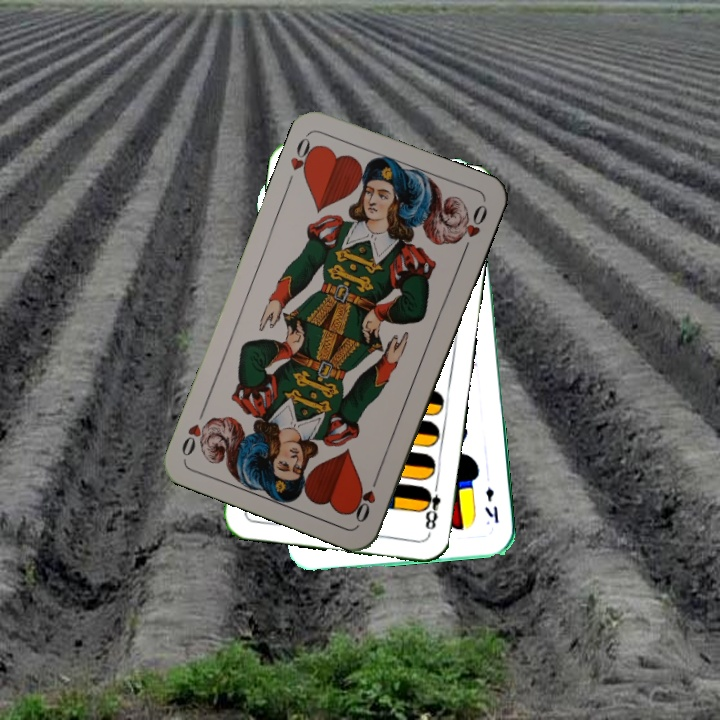E8: (418, 478, 443, 537)
EK: (481, 484, 501, 526)
HO: (349, 469, 382, 526), (286, 131, 320, 182)
